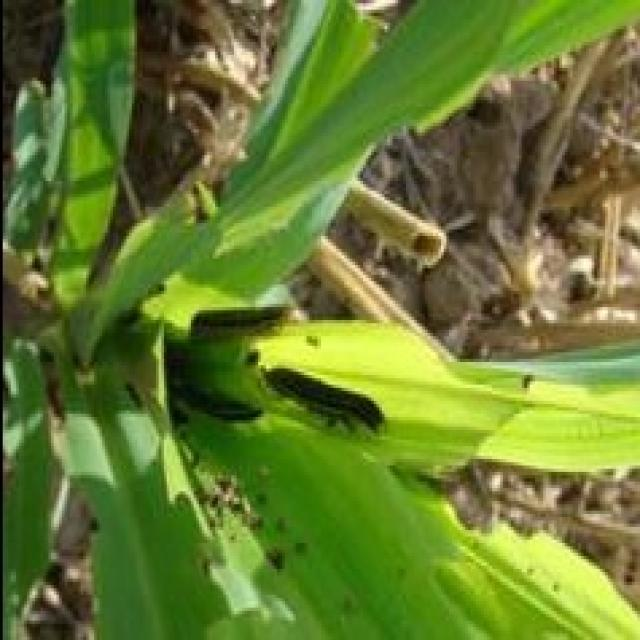army worm: (257, 366, 397, 431), (183, 299, 298, 357), (160, 386, 267, 444)
